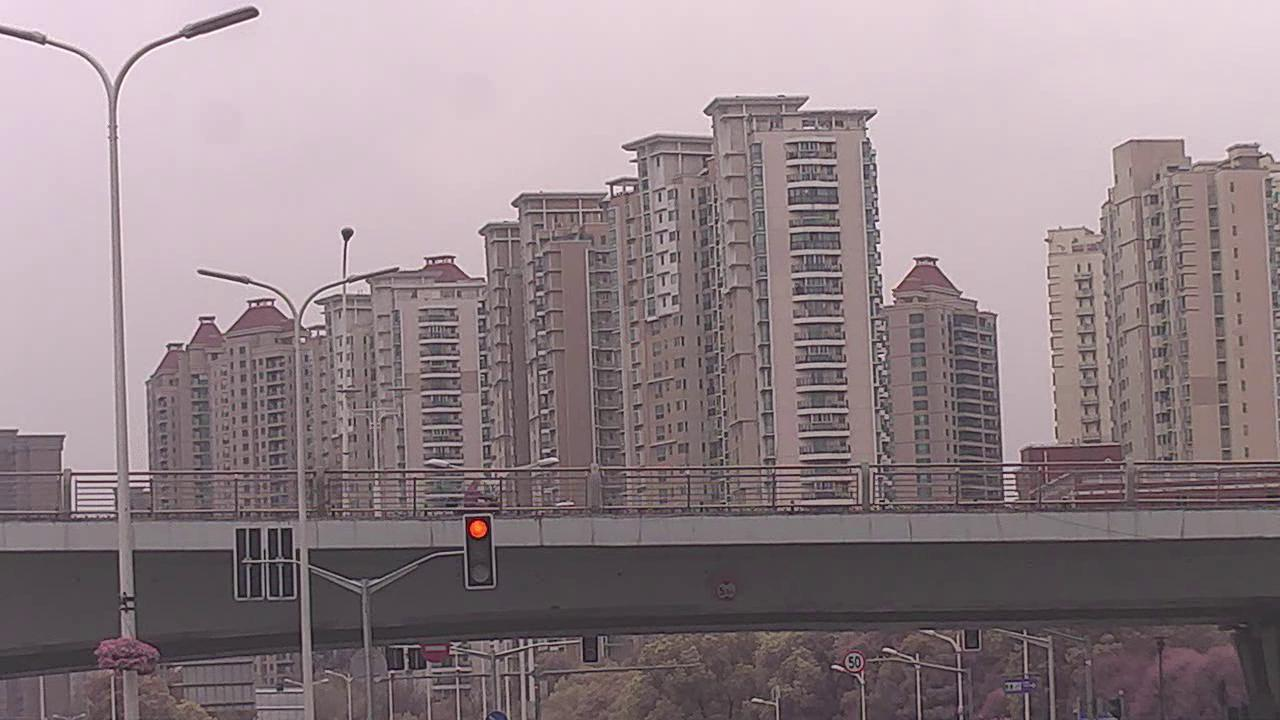traffic_light: (461, 514, 498, 588)
